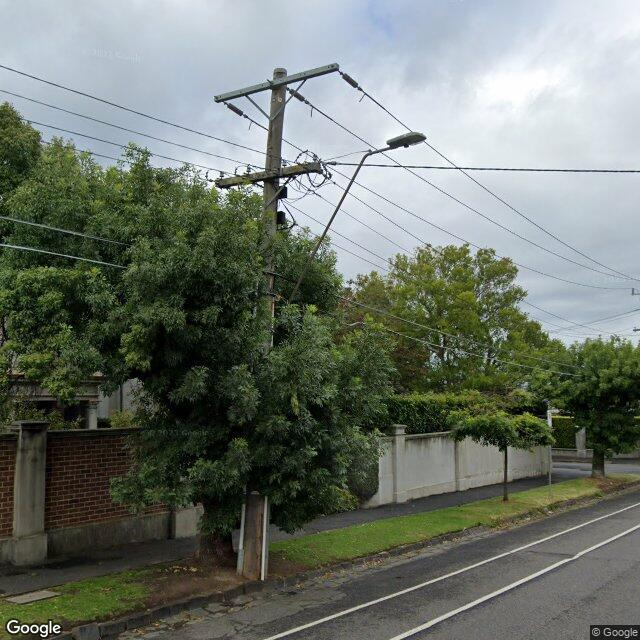HV-transmission: (214, 62, 366, 120)
crossarm: (205, 150, 338, 189), (213, 63, 339, 103)
streetlight: (271, 131, 427, 332)
timber-pole: (236, 69, 290, 578)
